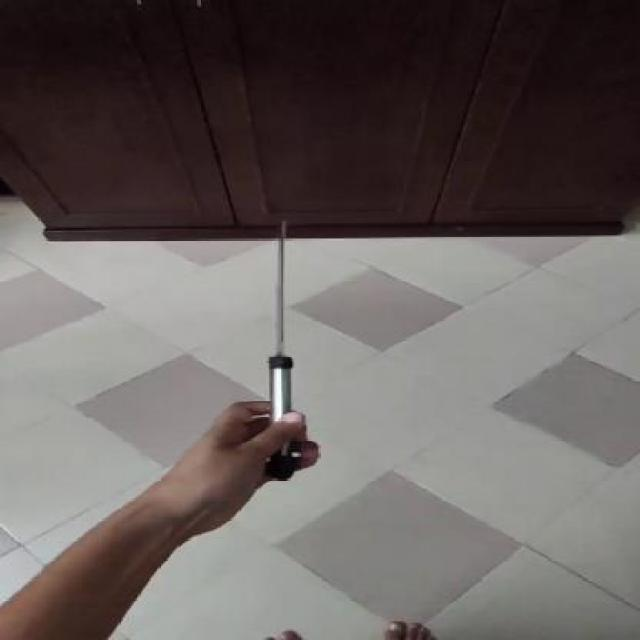-: (248, 217, 314, 385)
